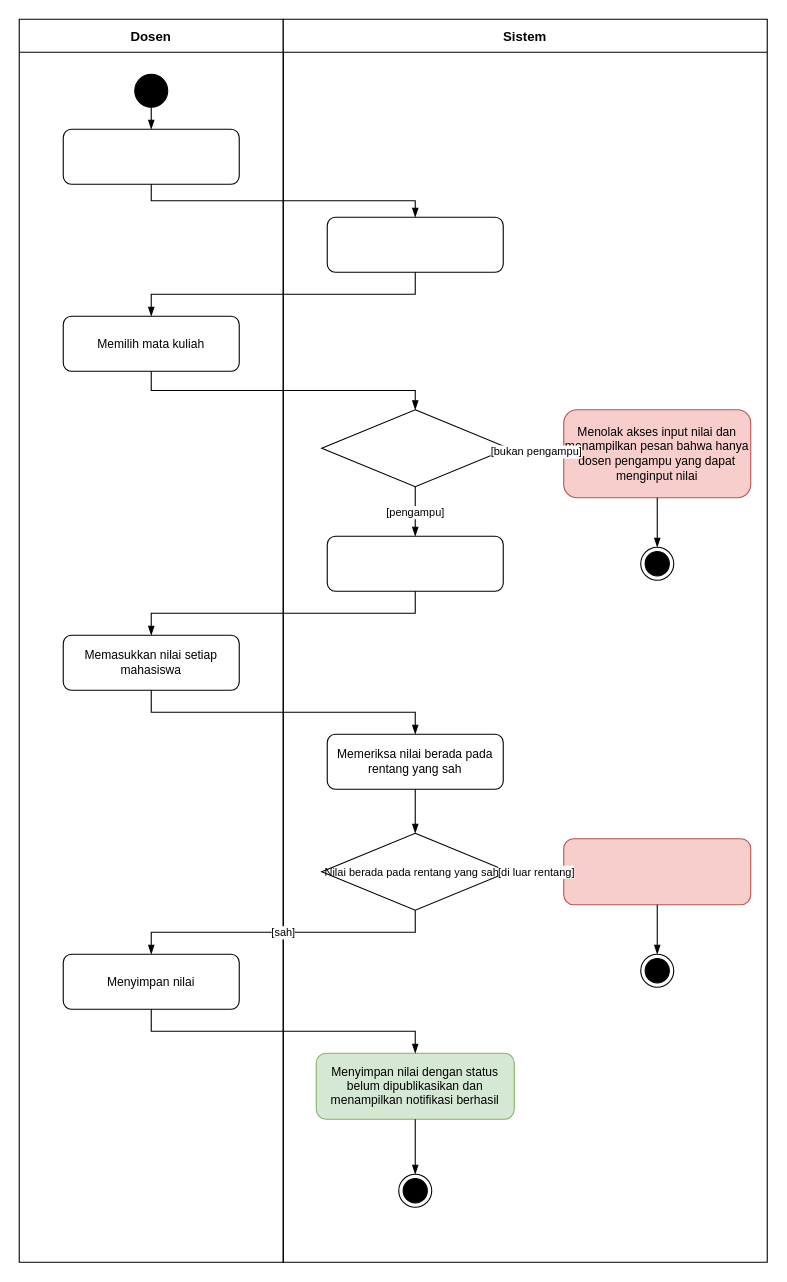
Some shapes in this 787 by 1282 pixel diagram are drawn without their labels. Each missing label, with the centre of its shape:
"Dosen pengampu mata kuliah?" goes at (415,448).
"Memilih fungsi Input Nilai Mata Kuliah" goes at (150,156).
"Menampilkan daftar mahasiswa pada mata kuliah terpilih" goes at (414,563).
"Menampilkan daftar mata kuliah yang diampu dosen" goes at (414,244).
"Menolak nilai dan menampilkan pesan kesalahan agar dosen memperbaiki nilai" goes at (657,871).
